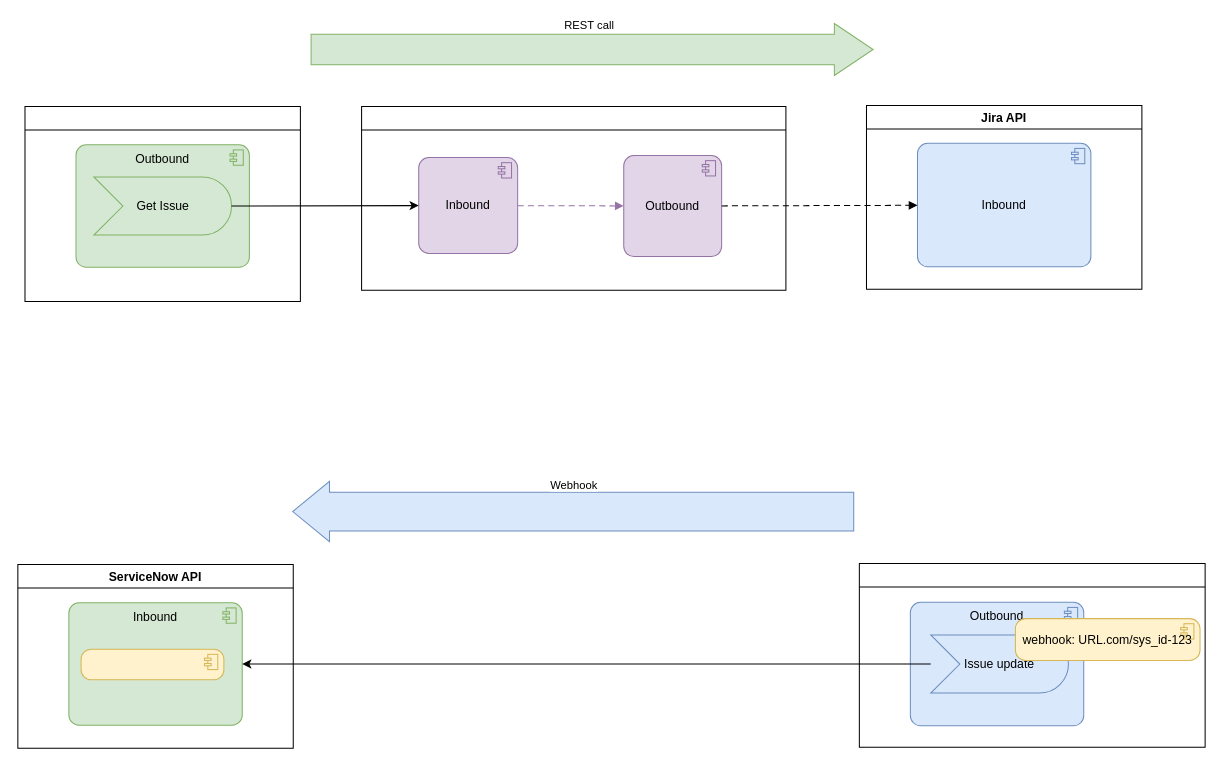
The diagram is 1223 pixels wide and 766 high, and some of its shapes have lost their labels. Here are the shapes that lost their labels. From the top down, the box of each, then its label:
(24, 106, 300, 301): ServiceNow (API Client)
(361, 106, 786, 290): API Gateway
(80, 648, 224, 680): Jra Instance
(858, 563, 1205, 747): Jira Webhook
